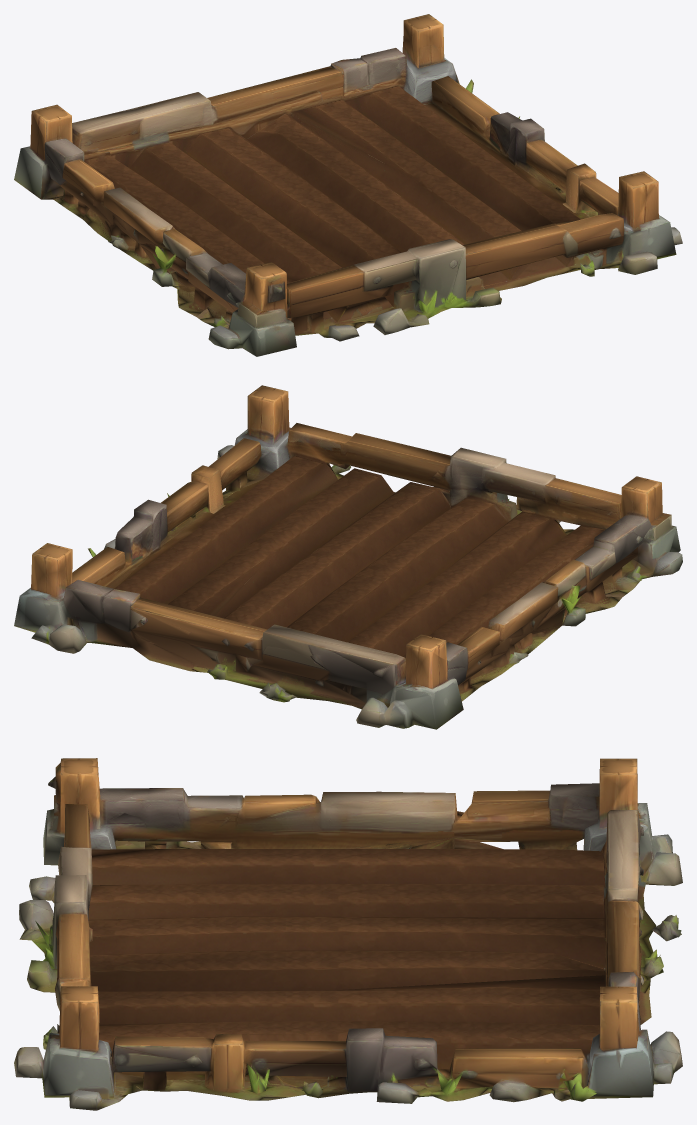
Rendered from Farm2.fbx.
3 views of the same model, one above another, from view 1: azimuth 30°, elevation 25°; view 2: azimuth 150°, elevation 25°; view 3: azimuth 270°, elevation 25° (orthographic). The views are drawn at different scales.
Parts seen in each view (by area): view 1: Mesh_0; view 2: Mesh_0; view 3: Mesh_0.
Boxes of the visible parts, bbox=[...] form: Mesh_0: bbox=[14, 14, 682, 356]; Mesh_0: bbox=[14, 385, 682, 729]; Mesh_0: bbox=[14, 758, 682, 1110].
Size of the model in its own units: 190 by 29.97 by 191.
1 material, 1 textured.
